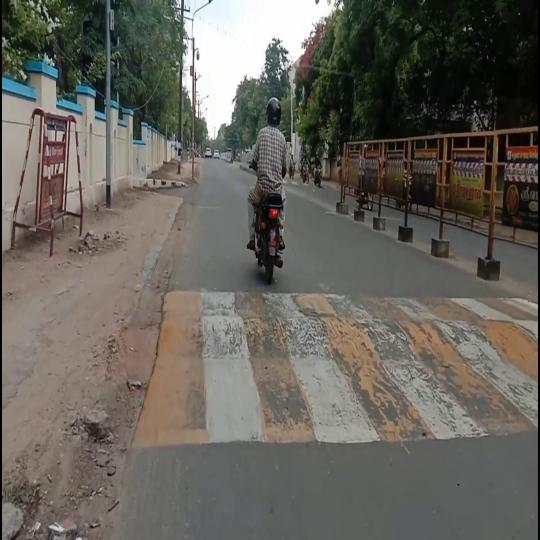Speed Bump: (131, 290, 538, 448)
